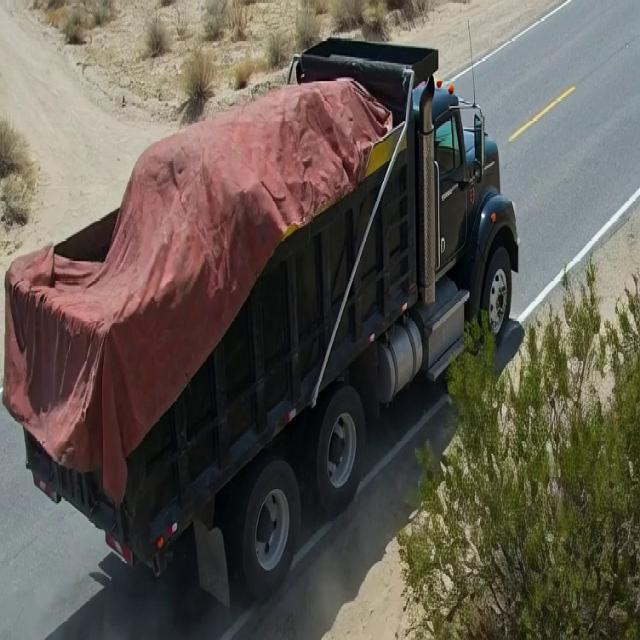Box: (4, 45, 457, 342)
Truck: (2, 77, 526, 616)
